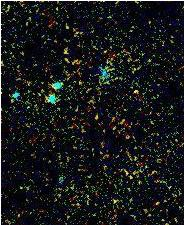star: (121, 76, 151, 106)
